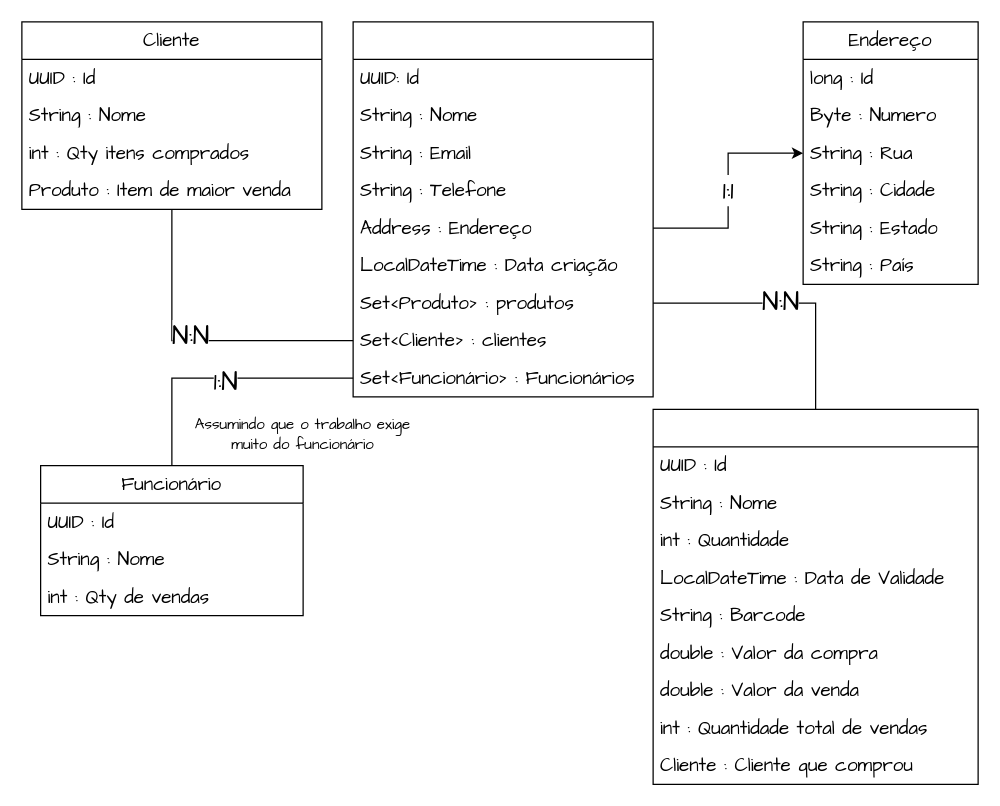
Image size: 1000x806. Some labels were removed from this diagram. Here are the shapes that lost their labels. From the top down, the box of each, then its label:
(352, 21, 653, 397): Mercado
(652, 408, 978, 784): Produto
